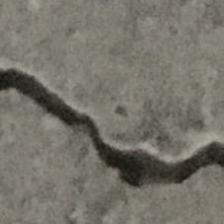Crack: (0, 19, 224, 224)
